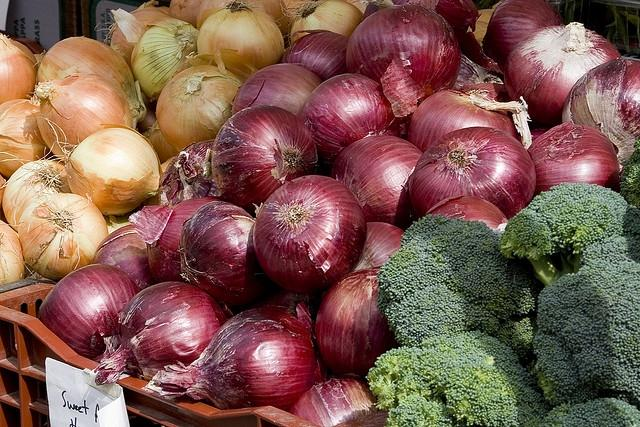broccoli: (377, 214, 538, 357), (365, 329, 551, 427), (530, 258, 640, 412), (501, 182, 640, 287), (537, 398, 640, 427), (620, 138, 640, 209)
onion: (154, 302, 327, 410), (94, 282, 228, 386), (254, 174, 368, 293), (346, 4, 460, 117), (408, 126, 536, 221), (504, 22, 622, 124), (212, 105, 316, 217), (297, 72, 401, 176), (36, 35, 146, 130), (362, 1, 503, 74), (38, 262, 140, 362), (178, 200, 274, 304), (315, 264, 400, 381), (561, 57, 640, 177), (329, 135, 423, 232), (128, 197, 231, 284), (66, 124, 162, 216), (34, 73, 133, 161), (19, 191, 110, 280), (156, 65, 243, 152), (528, 121, 620, 199), (408, 89, 518, 153), (196, 0, 284, 70), (482, 2, 563, 72), (2, 159, 71, 233), (158, 139, 230, 208), (232, 63, 323, 116), (0, 99, 57, 178), (90, 224, 158, 290), (289, 378, 380, 426), (109, 7, 170, 71), (277, 30, 349, 82), (245, 279, 332, 322), (280, 0, 364, 44), (196, 0, 288, 37), (424, 196, 509, 233), (0, 33, 39, 105), (352, 222, 404, 272), (453, 52, 503, 89), (0, 220, 25, 285), (146, 119, 180, 166), (169, 0, 203, 29), (284, 0, 313, 27), (0, 175, 7, 212)
